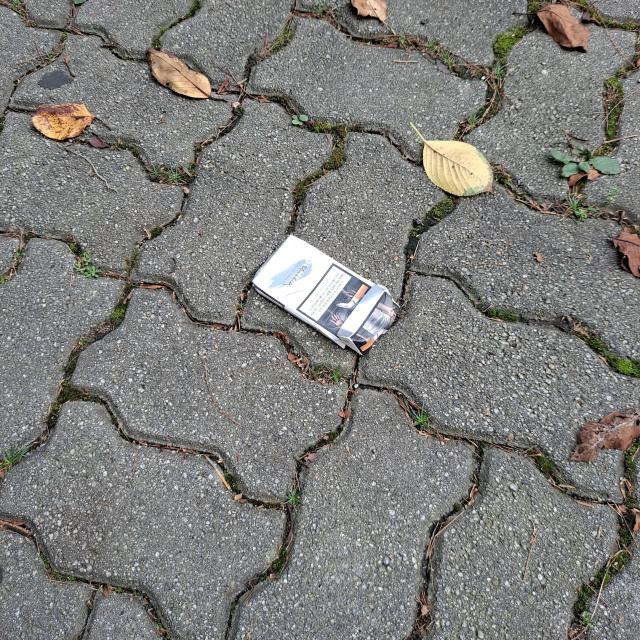litter: (242, 231, 406, 361)
